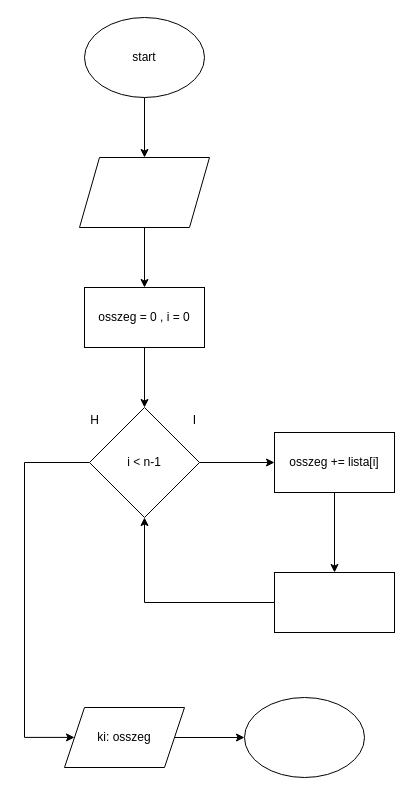
Image size: 412x795. Some labels were removed from this diagram. The box of each missing label's shape, as (x1, y1, x2, y2) in pixels:
end: (244, 696, 364, 778)
i++: (274, 572, 394, 632)
lista = [] , n:egész: (78, 156, 210, 228)
